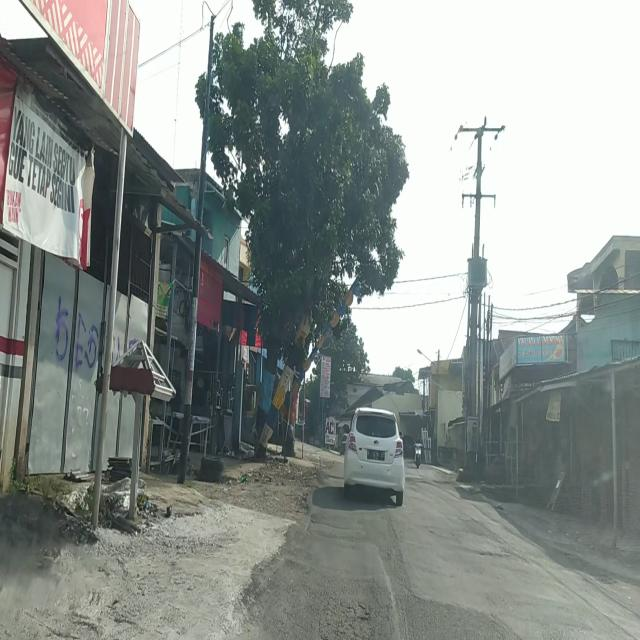Drain Hole: (302, 592, 388, 640)
